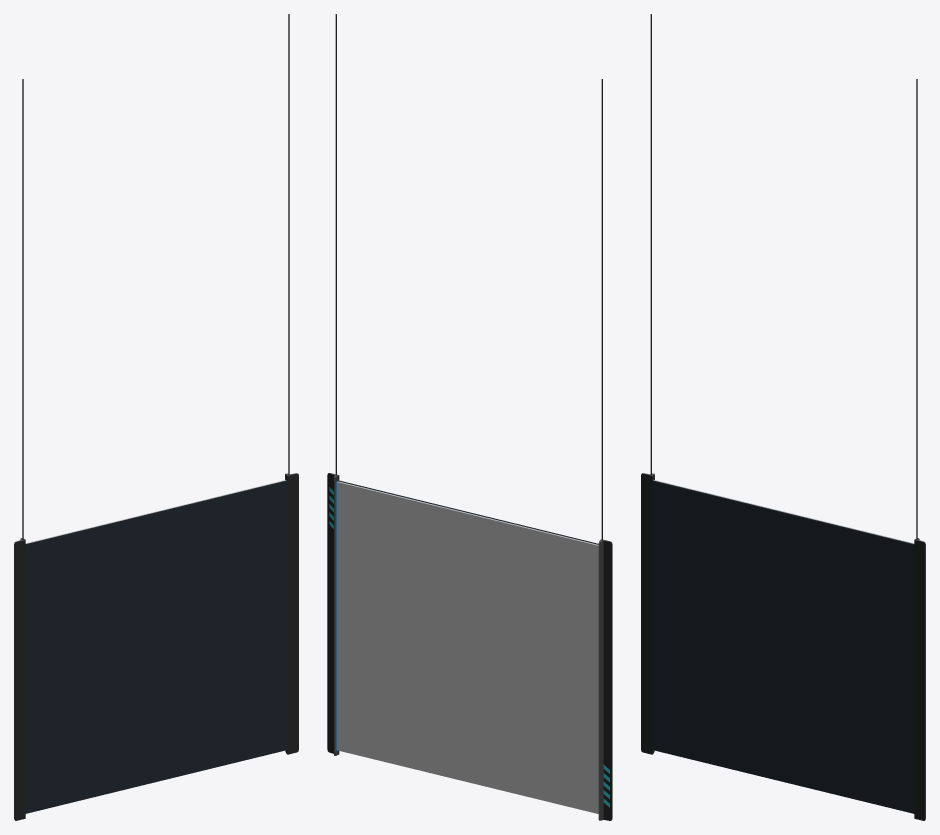
Rendered from MK_Display_002.fbx.
3 renders of one model, left to right at view 1: azimuth 30°, elevation 25°; view 2: azimuth 150°, elevation 25°; view 3: azimuth 330°, elevation 25°, orthographic.
Visible parts, largest first — view 1: MK_Display_002; view 2: MK_Display_002_Screen, MK_Display_002; view 3: MK_Display_002.
Boxes of the visible parts, x1,y1,x2,y2 form: MK_Display_002: (14,14,298,820); MK_Display_002_Screen: (336,481,598,813); MK_Display_002: (327,14,612,820); MK_Display_002: (641,14,925,820).
Size of the model in its own units: 3.72 by 9.25 by 0.0845.
